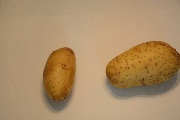potato: (107, 40, 180, 88), (42, 47, 76, 104)
